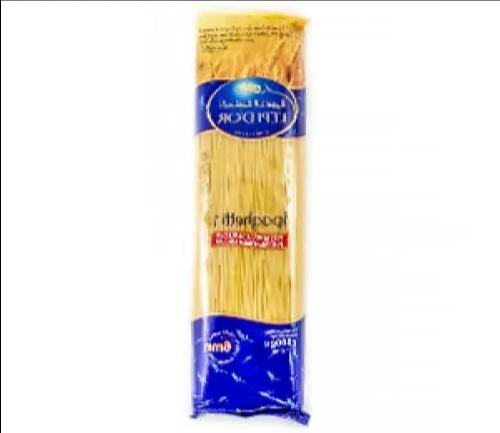Spaghetti: (192, 14, 309, 423)
